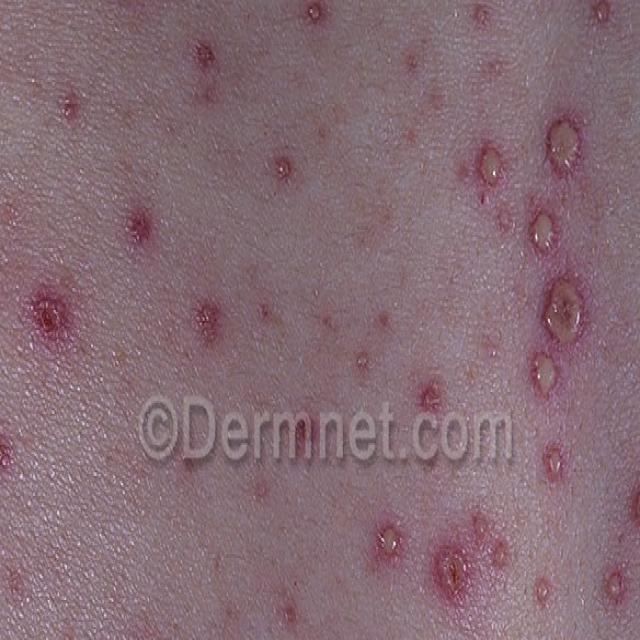Viral Infections: (453, 88, 623, 405), (359, 498, 570, 636), (121, 166, 242, 371), (19, 272, 89, 361), (599, 551, 640, 624), (0, 410, 33, 489), (266, 143, 307, 201), (621, 471, 640, 542)
